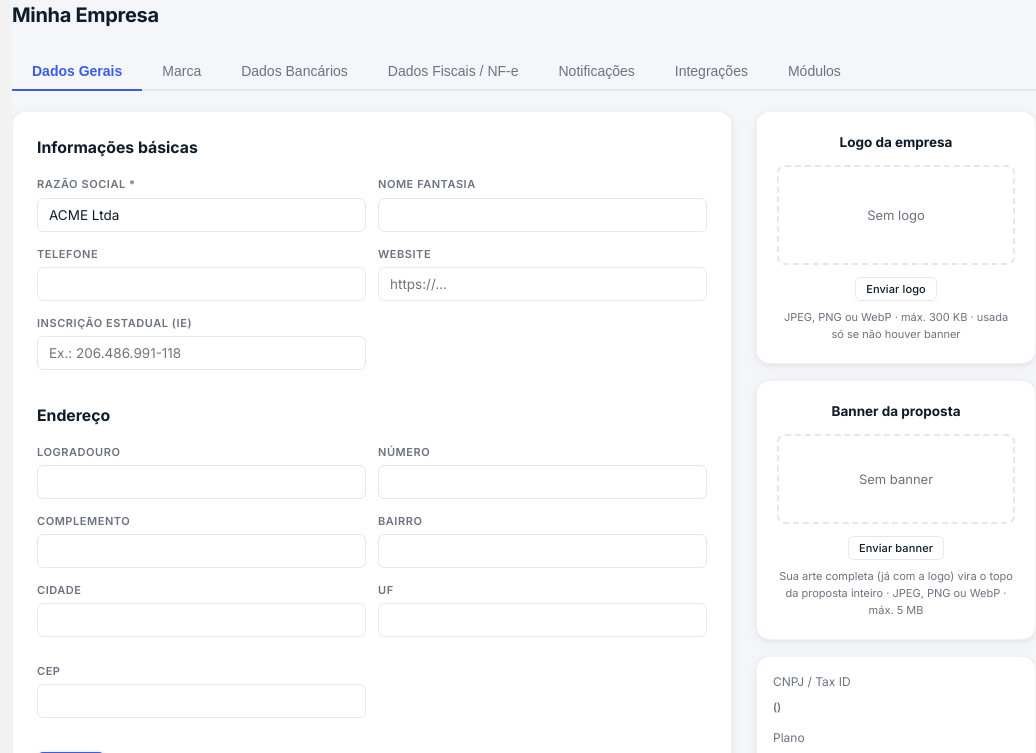
Test case: CompanyPage — Integração Fiscal automatizada (regra 70) › empresa já registrada mostra o botão de teste de conexão e o upload de certificado
This screenshot has width=1036, height=753.
Expected: the field showing "ACME Ltda" below "Razão Social" is shown, [37, 198, 366, 232]
What coordinates should you click on to do the following:
click the button "Dados Fiscais / NF-e"
I would click on:
 (453, 72)
Its box is [368, 53, 538, 91].
(page scrolled)
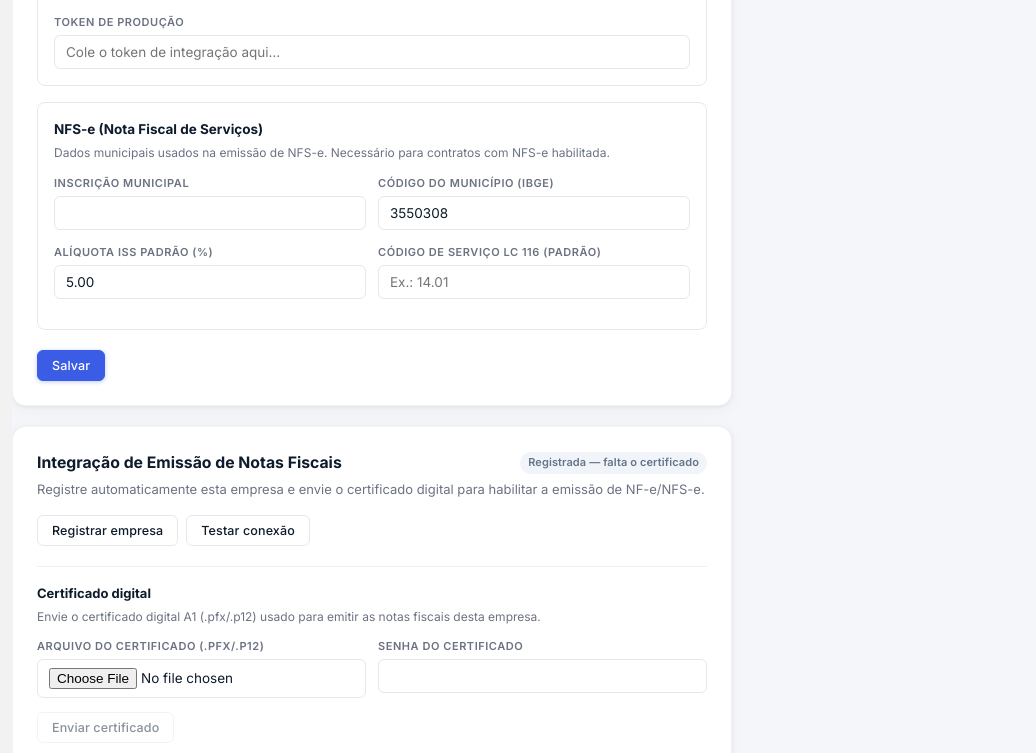
Expected: the text "Registrada — falta o certificado" is shown, [520, 452, 707, 474]
Expected: the button "Testar conexão" is enabled, [186, 515, 310, 546]
Expected: the button "Enviar certificado" is disabled, [37, 712, 174, 743]
